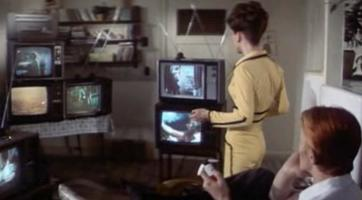person: (190, 2, 292, 178)
